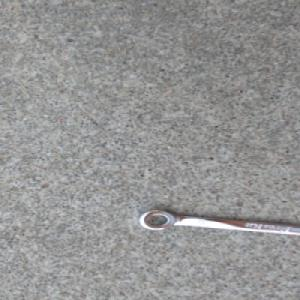Wrench: (136, 208, 300, 239)
